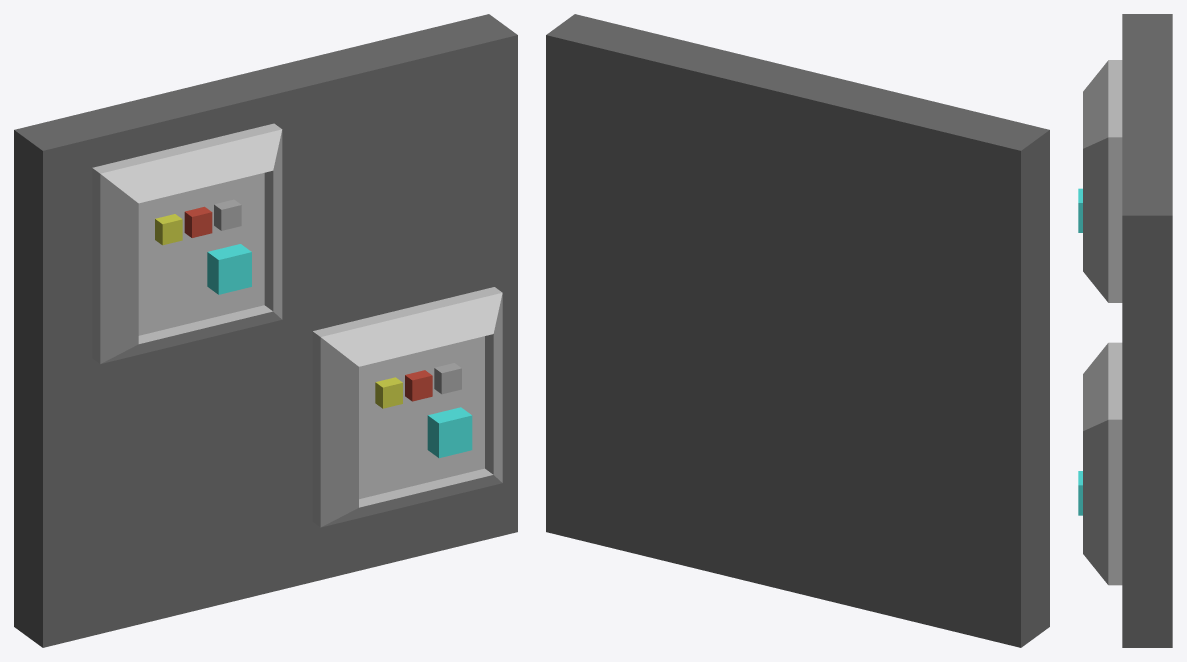
File: prop_litwallpannel_roberto.fbx
3 renders of one model, left to right at view 1: azimuth 30°, elevation 25°; view 2: azimuth 150°, elevation 25°; view 3: azimuth 270°, elevation 25°, orthographic. The views are drawn at different scales.
Parts seen in each view (by area): view 1: pCube53; view 2: pCube53; view 3: pCube53.
Boxes of the visible parts, <box> form: pCube53: <box>14,14,517,647</box>; pCube53: <box>546,14,1049,647</box>; pCube53: <box>1078,14,1172,647</box>.
Size of the model in its own units: 3.83 by 3.83 by 0.7547.
